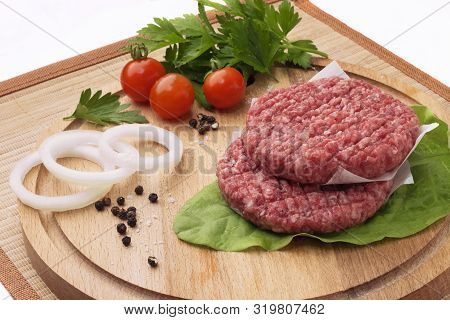ground_beef: (220, 71, 409, 254)
